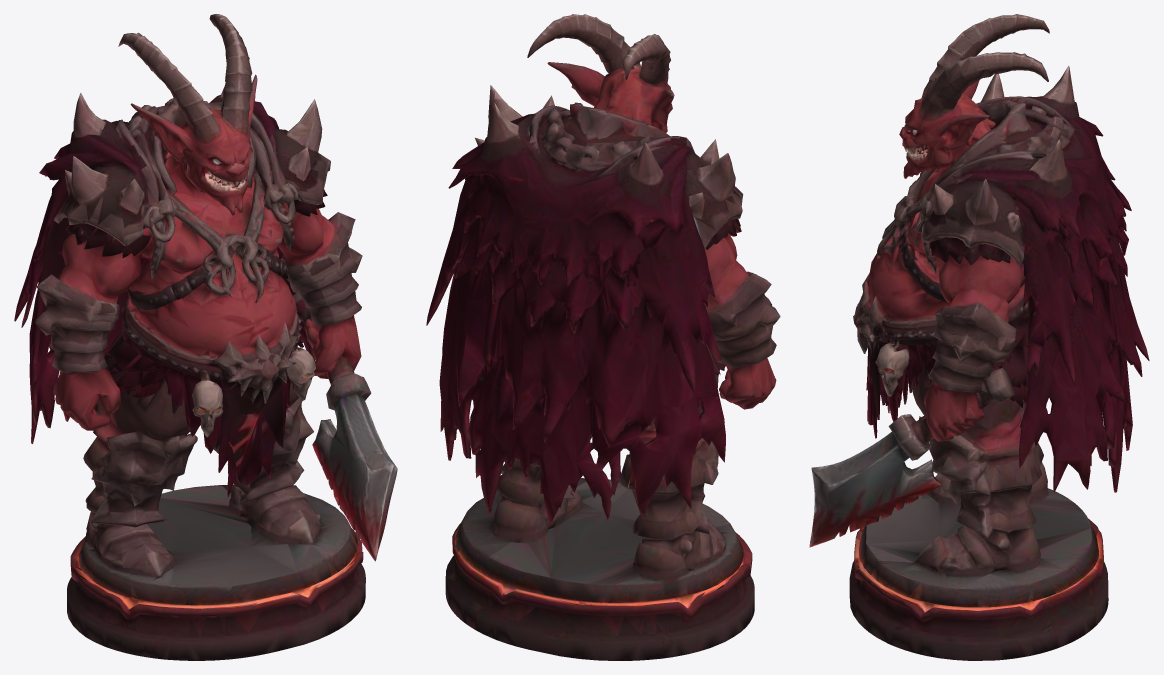
Rendered from guard.glb.
3 renders of one model, left to right at view 1: azimuth 30°, elevation 25°; view 2: azimuth 150°, elevation 25°; view 3: azimuth 270°, elevation 25°, orthographic. The views are drawn at different scales.
Parts seen in each view (by area): view 1: Mesh_0; view 2: Mesh_0; view 3: Mesh_0.
Boxes of the visible parts, box(x1,y1,x2,y2) form: Mesh_0: box(14, 14, 397, 660); Mesh_0: box(426, 14, 780, 660); Mesh_0: box(809, 14, 1149, 660).
Size of the model in its own units: 0.5829 by 1 by 0.5547.
1 material, 1 textured.
